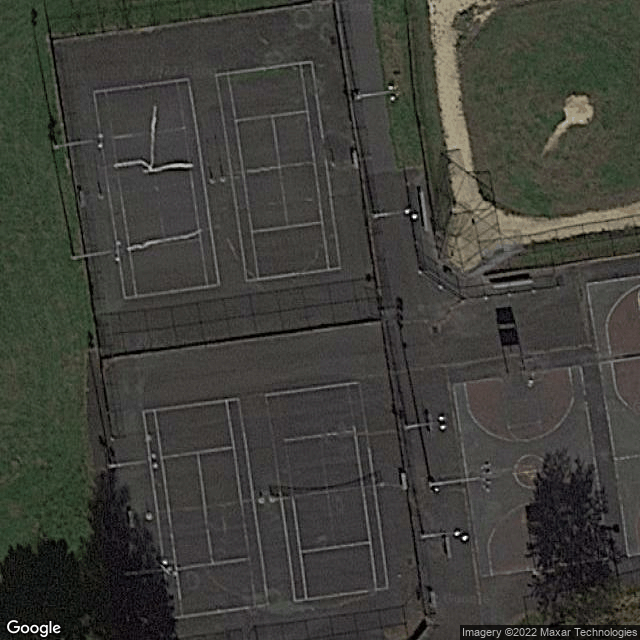Court: (140, 395, 272, 621), (214, 61, 344, 284), (93, 76, 222, 300), (263, 380, 392, 603)
